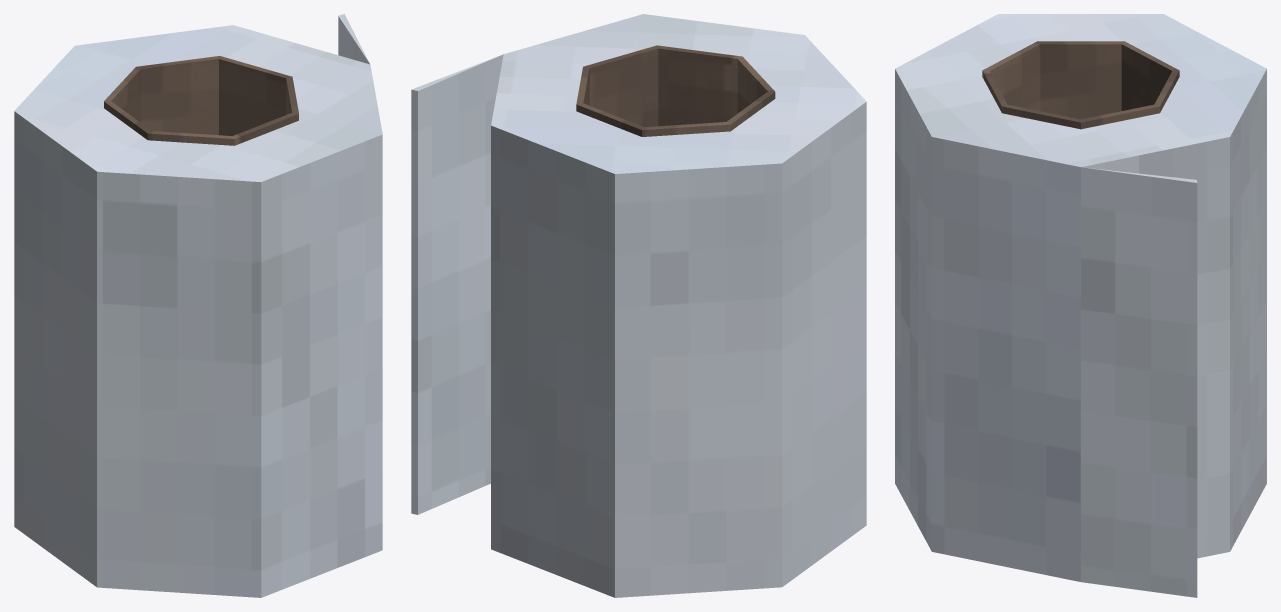
File: SM_ToiletRoll.fbx
3 renders of one model, left to right at view 1: azimuth 30°, elevation 25°; view 2: azimuth 150°, elevation 25°; view 3: azimuth 270°, elevation 25°, orthographic. The views are drawn at different scales.
Visible parts, largest first — view 1: SM_ToiletRoll; view 2: SM_ToiletRoll; view 3: SM_ToiletRoll.
Part boxes in pixels (left/top/right/bottom): SM_ToiletRoll: left=14, top=14, right=382, bottom=597; SM_ToiletRoll: left=411, top=14, right=866, bottom=597; SM_ToiletRoll: left=895, top=14, right=1266, bottom=597.
Size of the model in its own units: 20.64 by 24.39 by 19.19.
Materials: 2 (2 with a texture image).
